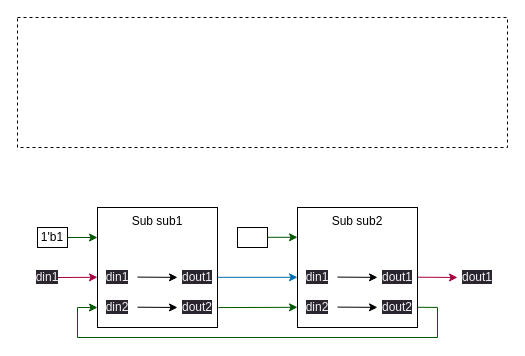
Some shapes in this 525 by 356 pixel diagram are drawn without their labels. The shapes that lost their labels are listed below. From the top down, each one's centre as x and y in pixels, then its label:
the point at 262,82: Top
the point at 252,237: Add
